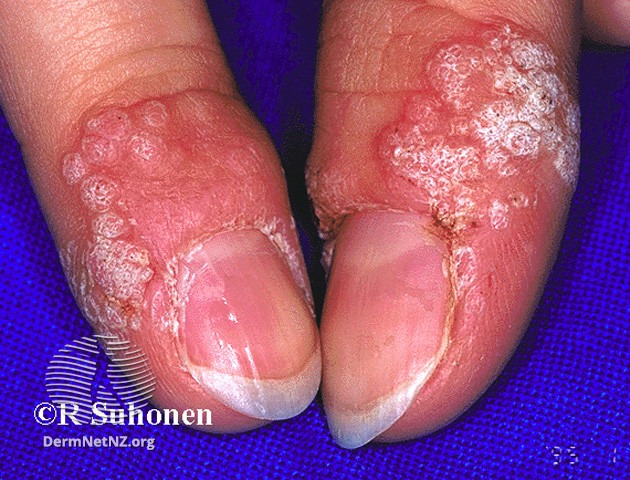Warts: (393, 7, 592, 240), (38, 86, 197, 332)
